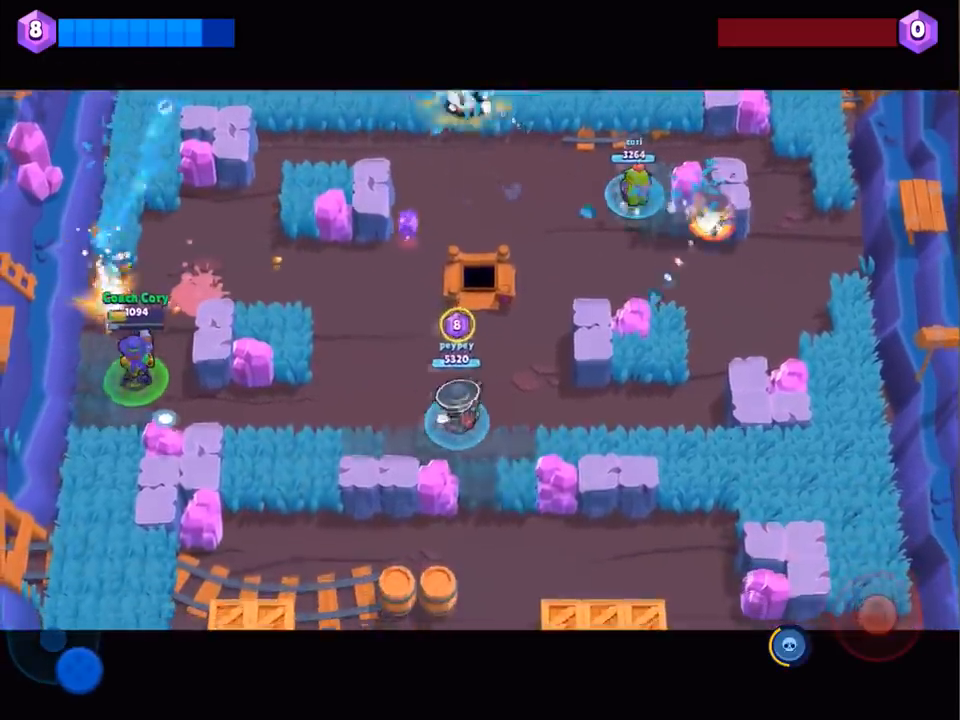move_stick: (57, 644, 103, 692)
